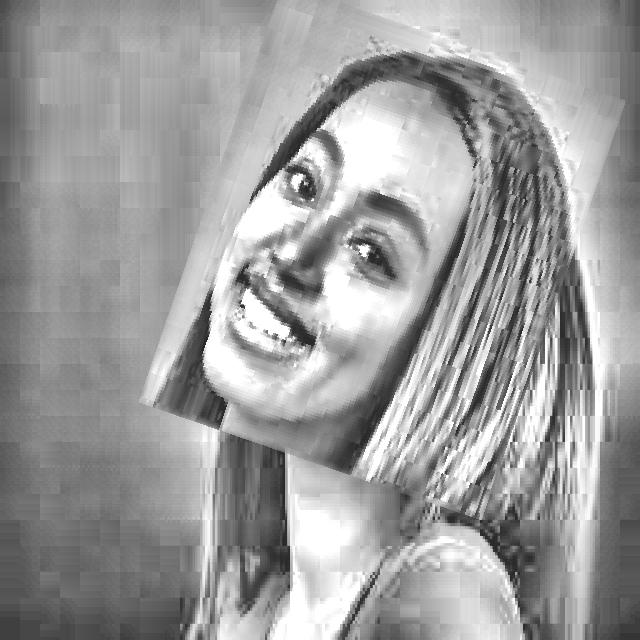happy: (169, 6, 594, 497)
